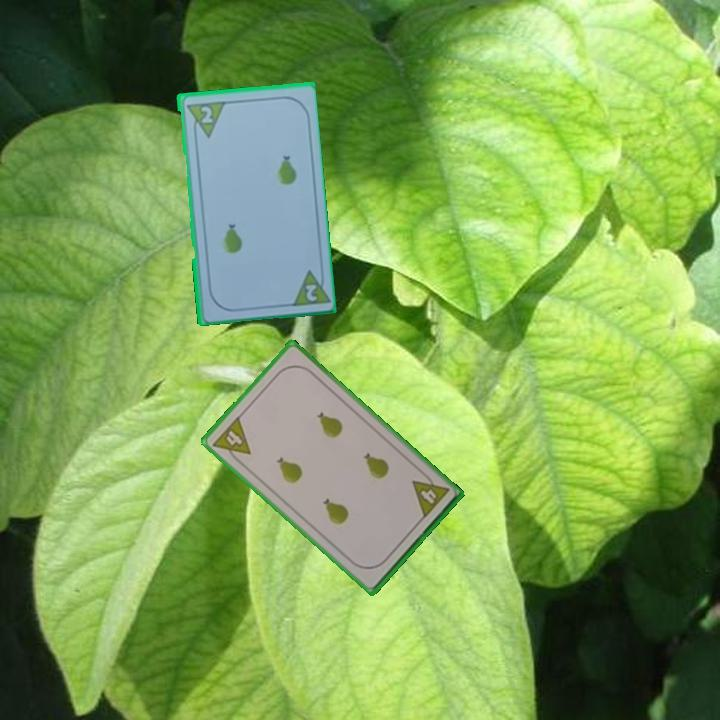2p: (195, 102, 215, 126), (301, 280, 321, 304)
4p: (209, 413, 254, 467), (408, 468, 452, 521)
